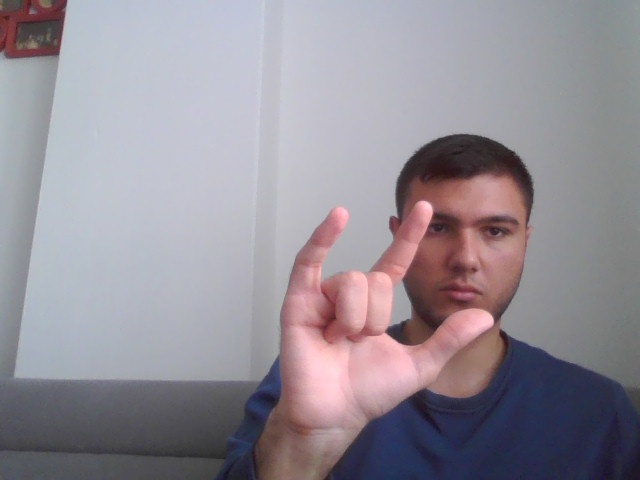ı love you: (274, 198, 497, 425)
